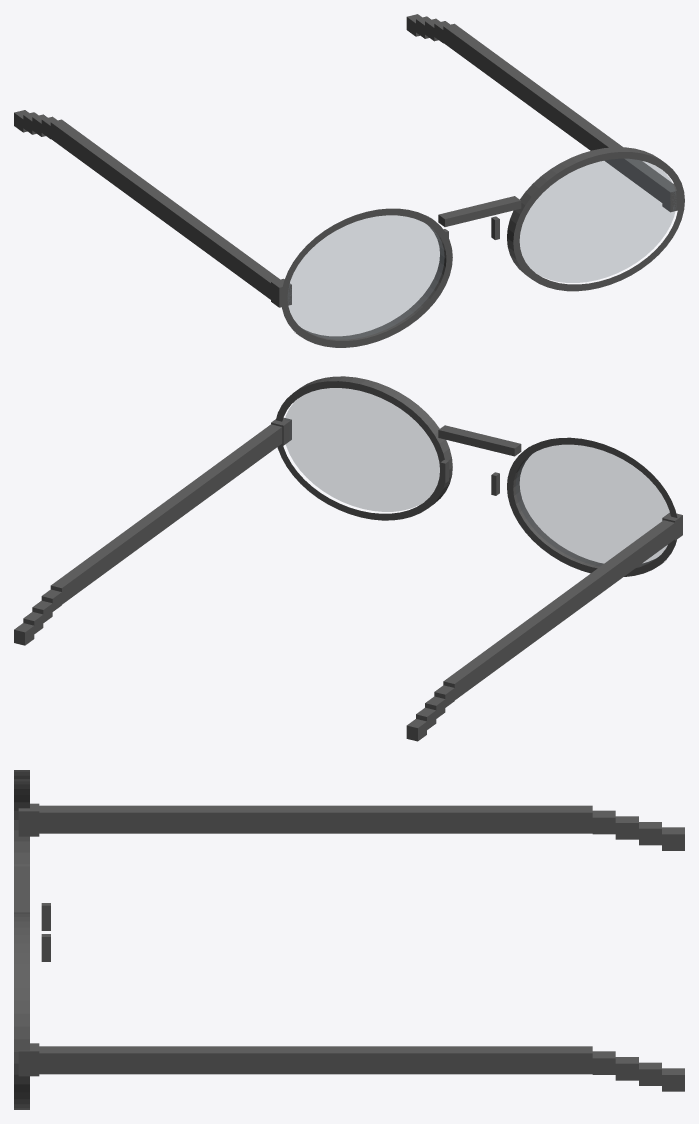
The model's file is p-oval.glb.
The picture shows the model from 3 angles, top to bottom: view 1: azimuth 30°, elevation 25°; view 2: azimuth 150°, elevation 25°; view 3: azimuth 270°, elevation 25°; orthographic projection. The views are drawn at different scales.
Visible parts, largest first — view 1: Lens, Frame; view 2: Lens, Frame; view 3: Frame.
Part boxes in pixels (x1,y1,x2,y2): Lens: (288,159,675,339); Frame: (14,14,684,347); Lens: (285,388,669,566); Frame: (14,376,682,741); Frame: (14,770,684,1109).
Bounding box in the file's own units: 127 × 40 × 146.
